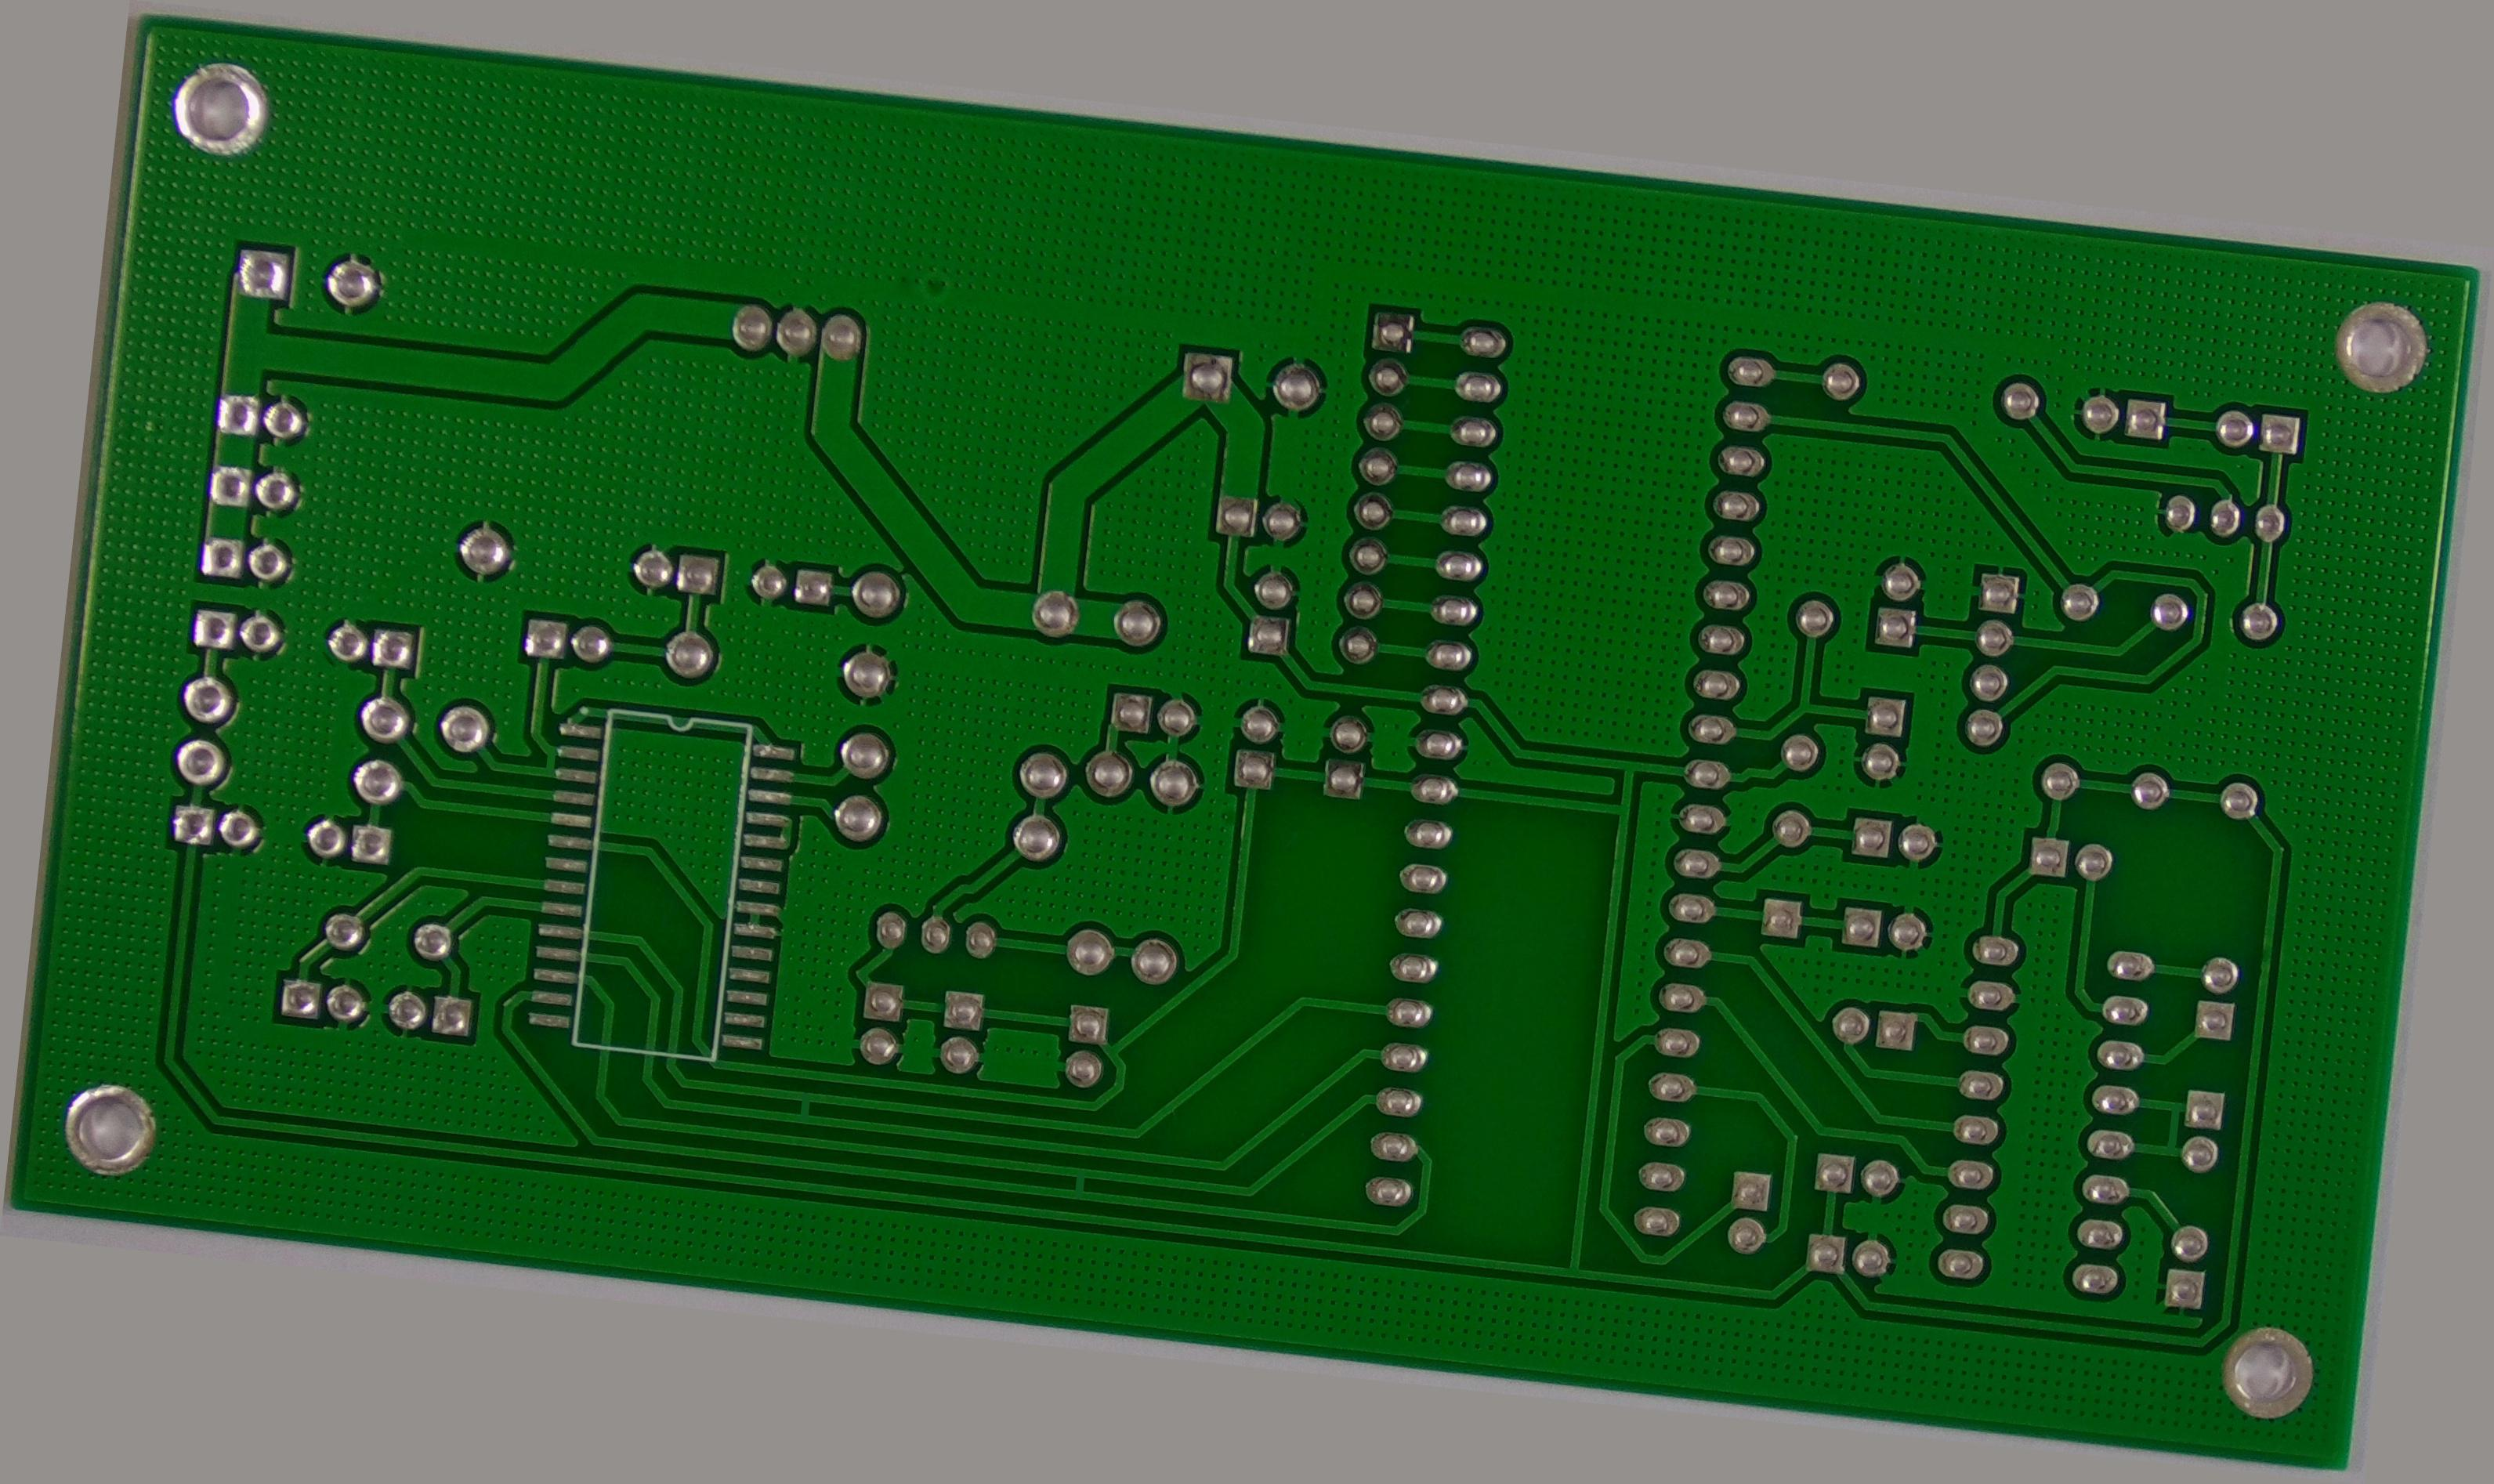short: (2143, 1086, 2213, 1170), (1056, 1157, 1102, 1203), (782, 1088, 827, 1129), (532, 733, 569, 777)
